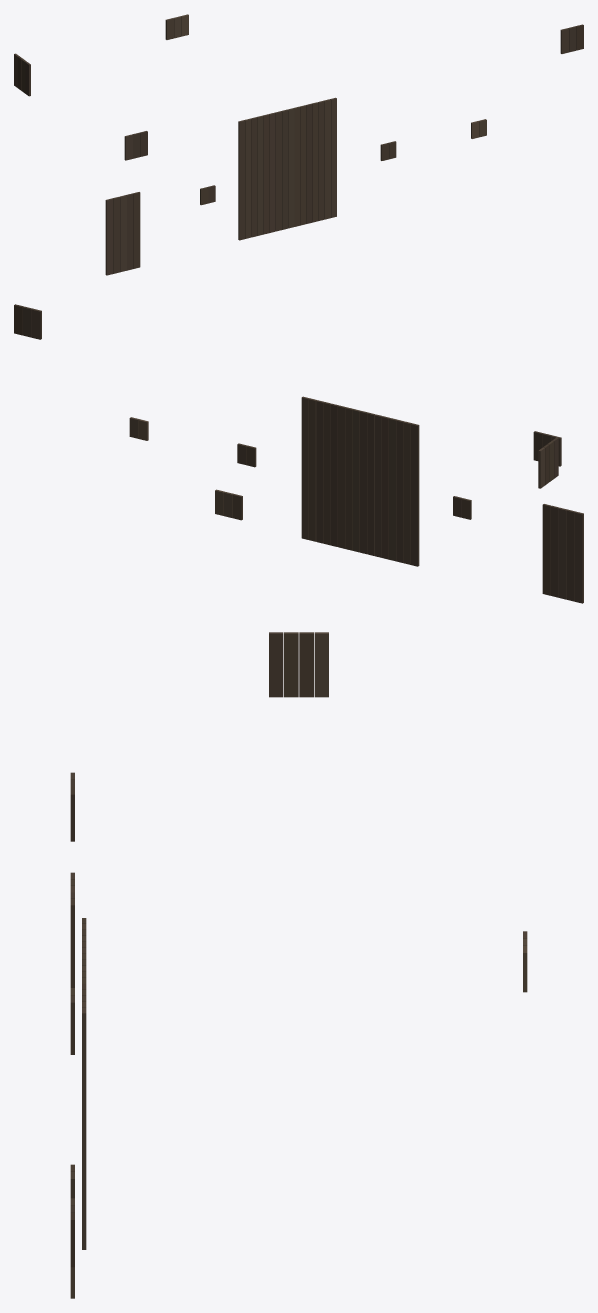
Rendered from SM_Bld_160_Wood.glb.
3 views of the same model, one above another, from view 1: azimuth 30°, elevation 25°; view 2: azimuth 150°, elevation 25°; view 3: azimuth 270°, elevation 25° (orthographic). The views are drawn at different scales.
Visible parts, largest first — view 1: SM_Bld_160_Wood; view 2: SM_Bld_160_Wood; view 3: SM_Bld_160_Wood.
Part boxes in pixels (<box>): SM_Bld_160_Wood: <box>14,14,583,275</box>; SM_Bld_160_Wood: <box>14,304,583,603</box>; SM_Bld_160_Wood: <box>70,632,527,1298</box>.
Bounding box in the file's own units: 13.42 × 4.6 × 5.25.
